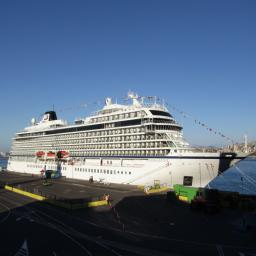cruises: (6, 90, 256, 194)
